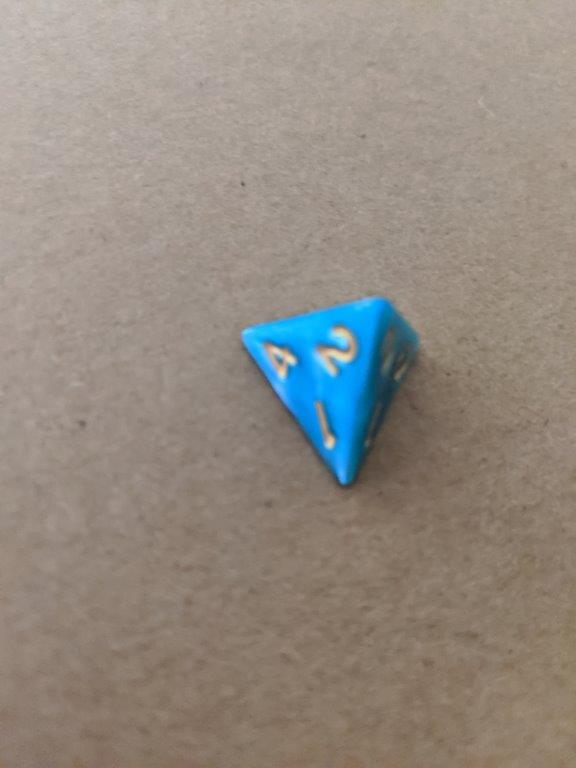d4-2: (236, 291, 421, 491)
